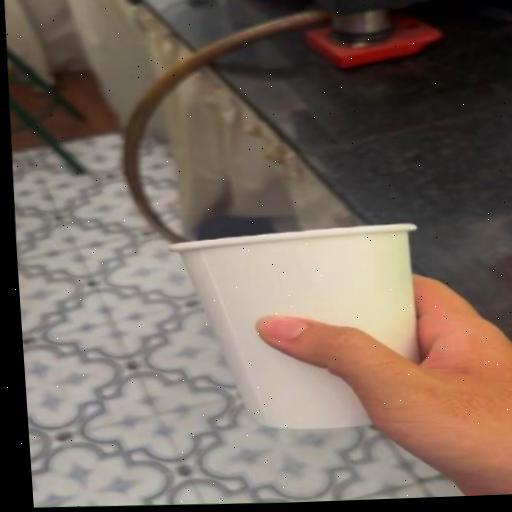ly_giay: (171, 224, 420, 429)
